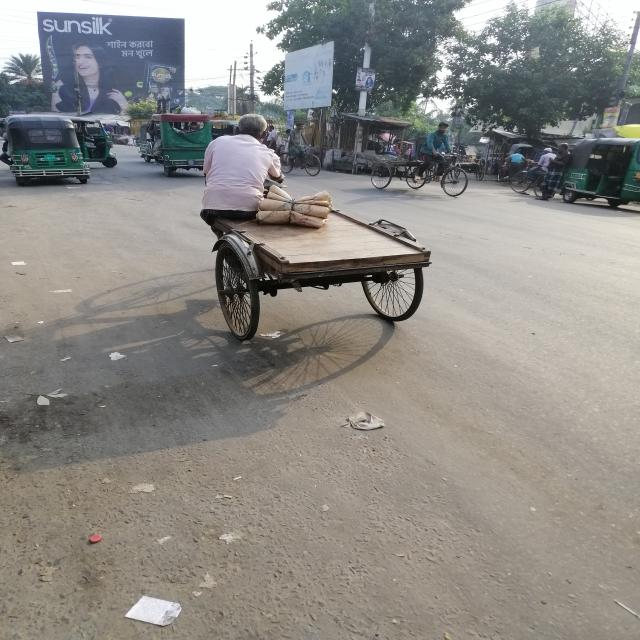CNG: (3, 108, 99, 196)
Van: (186, 199, 436, 354)
